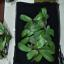leaf: (39, 49, 55, 62), (32, 38, 48, 48), (18, 43, 32, 52), (33, 12, 46, 20), (20, 14, 32, 22), (40, 8, 48, 20), (26, 50, 36, 58), (30, 24, 42, 30), (33, 32, 45, 38), (49, 40, 56, 50), (46, 24, 50, 39), (24, 22, 32, 28), (26, 28, 34, 34), (21, 29, 28, 35), (22, 37, 28, 44), (50, 28, 54, 38)
